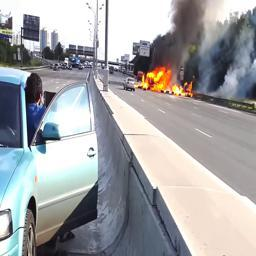fire: (138, 65, 192, 96)
